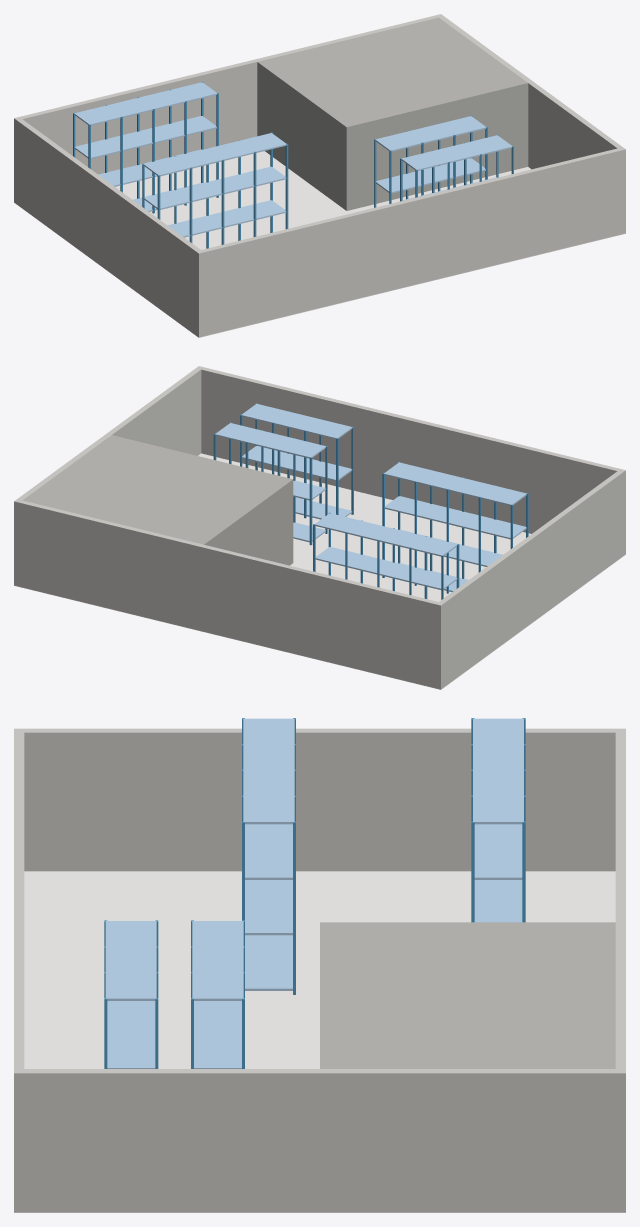
File: 05-kho-chu-L-loi-hep.glb
The picture shows the model from 3 angles, top to bottom: view 1: azimuth 30°, elevation 25°; view 2: azimuth 150°, elevation 25°; view 3: azimuth 270°, elevation 25°; orthographic projection. The views are drawn at different scales.
Bounding box in the file's own units: 16 × 3.74 × 12.
